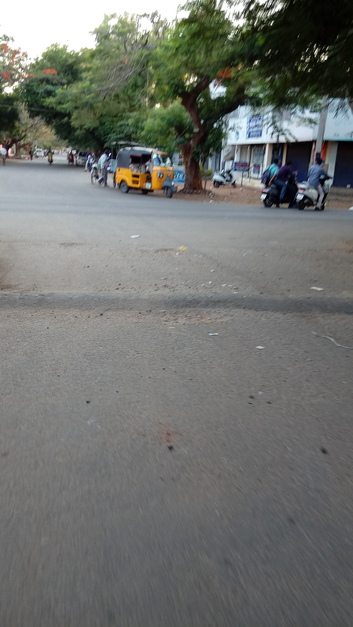bump: (2, 287, 353, 321)
